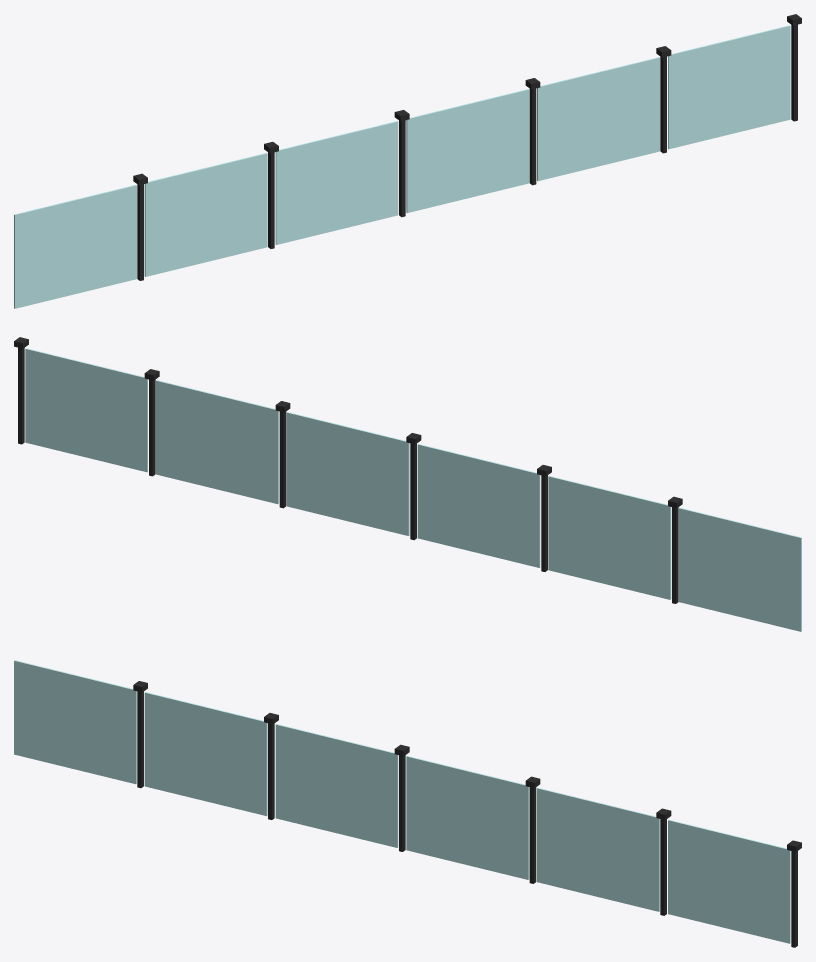
Rendered from Balcony.016.fbx.
3 views of the same model, one above another, from view 1: azimuth 30°, elevation 25°; view 2: azimuth 150°, elevation 25°; view 3: azimuth 330°, elevation 25° (orthographic).
Visible parts, largest first — view 1: Balcony.016; view 2: Balcony.016; view 3: Balcony.016.
Boxes of the visible parts, x1,y1,x2,y2 form: Balcony.016: (14,14,801,308); Balcony.016: (14,337,801,631); Balcony.016: (14,660,801,947).
Size of the model in its own units: 3491 by 437 by 44.44.
